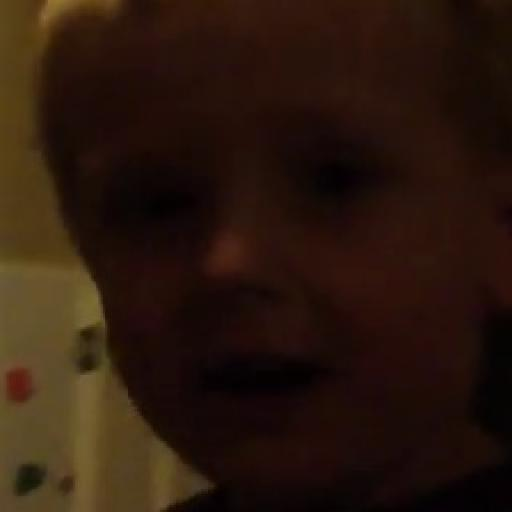Autism: (34, 0, 512, 510)
